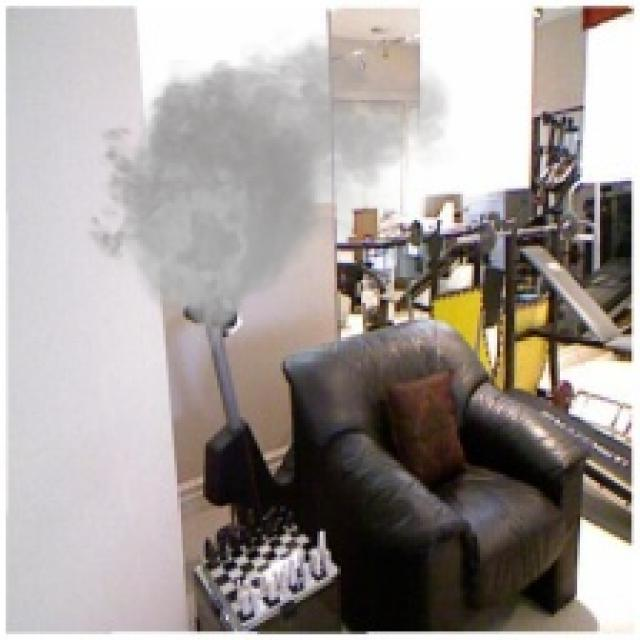smoke: (74, 23, 457, 383)
